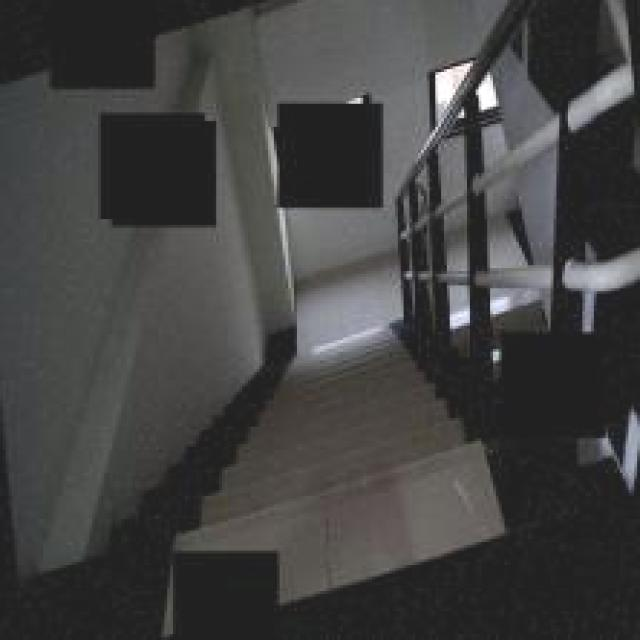downstair: (203, 347, 471, 526)
